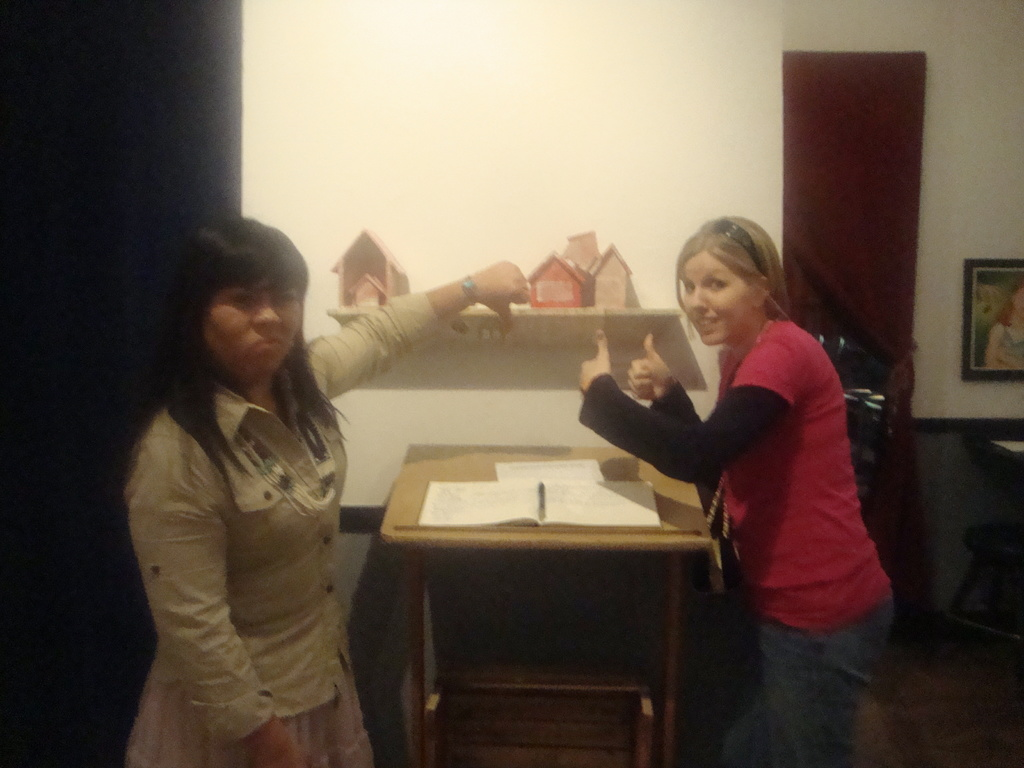Human-face: (209, 278, 302, 371), (682, 250, 746, 344)
